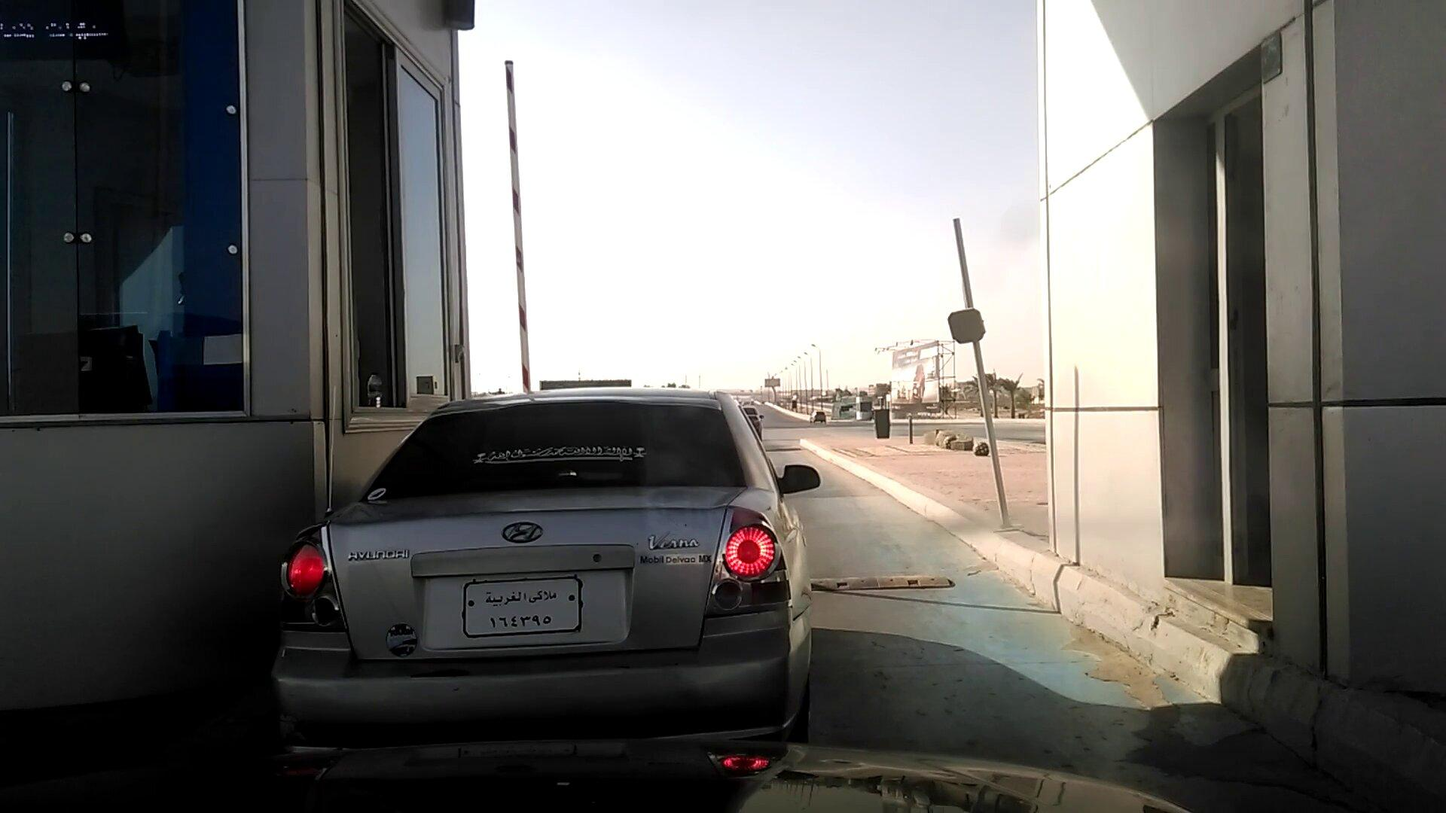Bump: (815, 568, 956, 593)
